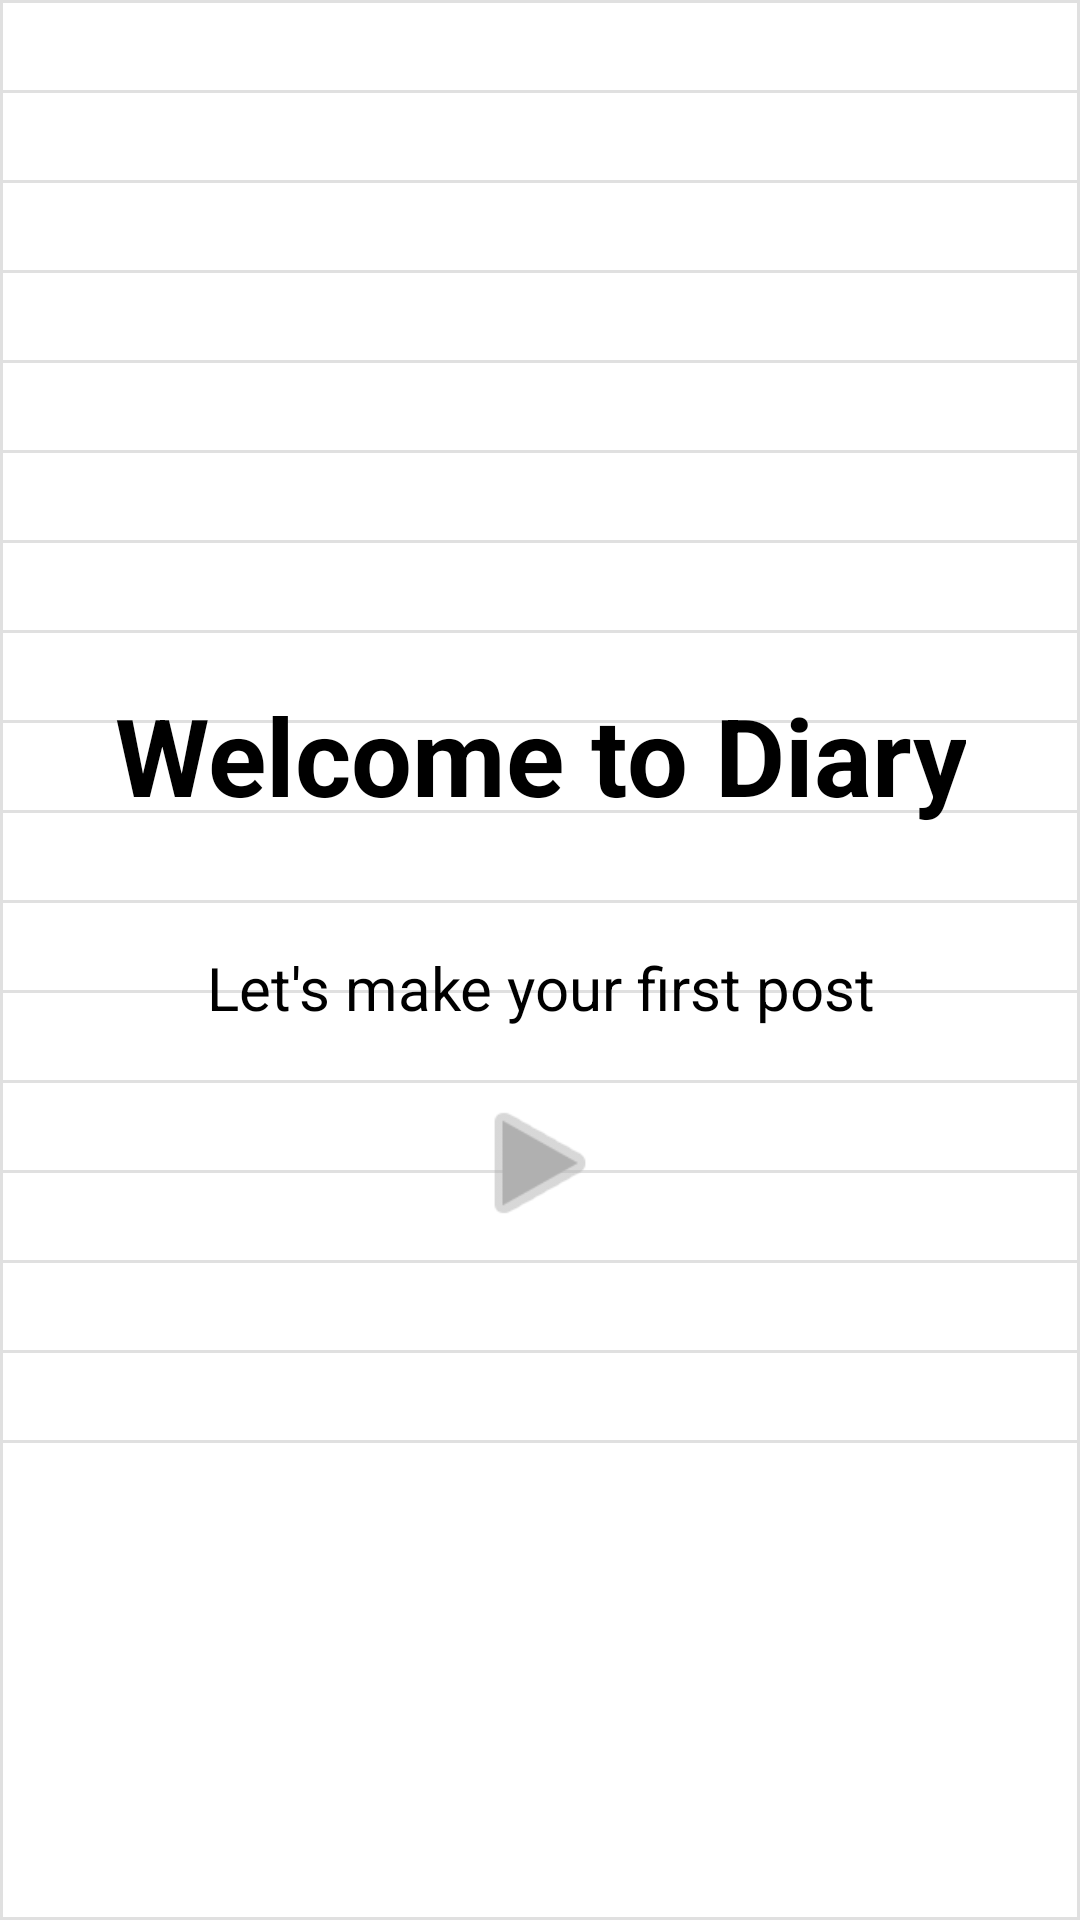

Point at icon controls on the screen. Image size 1080 × 1920, points as [x,y].
Play Button: [540,1163]
